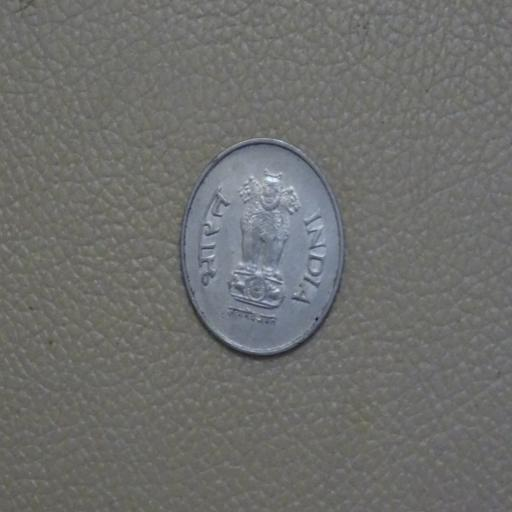rupee1: (178, 137, 345, 353)
